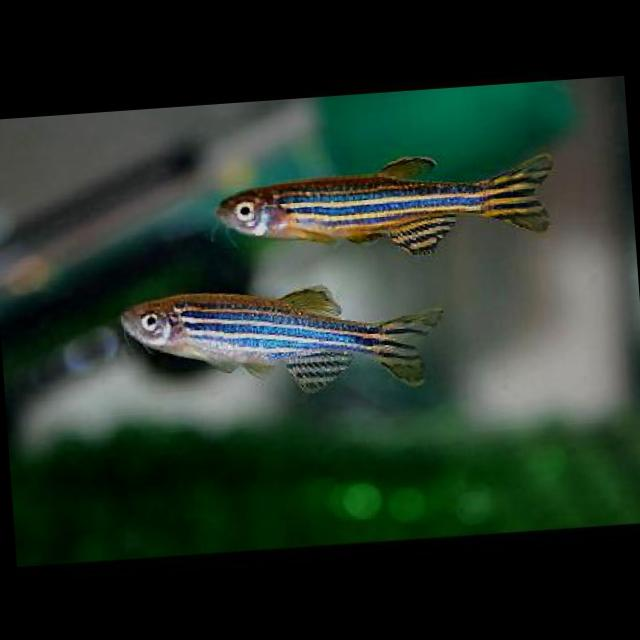ZebraFish: (118, 271, 450, 402), (213, 146, 556, 262)
